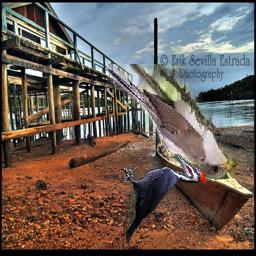Cuckoo: (108, 65, 237, 180)
Woodpecker: (118, 154, 206, 250)
